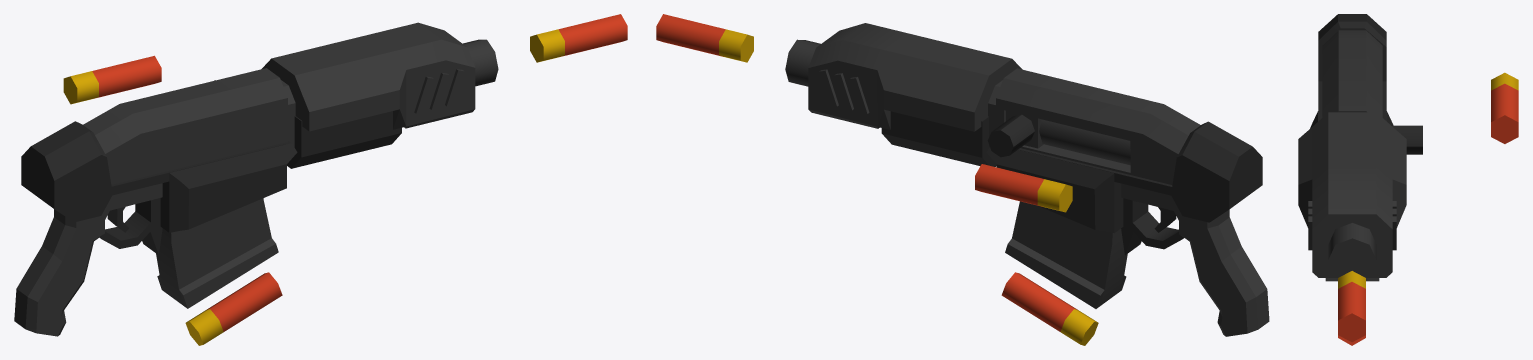
Rendered from Weapon Scifi Shotgun.glb.
3 views of the same model, side by side, from view 1: azimuth 30°, elevation 25°; view 2: azimuth 150°, elevation 25°; view 3: azimuth 270°, elevation 25° (orthographic). The views are drawn at different scales.
Visible parts, largest first — view 1: Line1322, Line1321, Line1323, Line1320, Line1318, Line1324, Rectangle400, gun_bullet3a_036, gun_bullet3a_035, gun_bullet3a_034, Line1332, Cylinder1188; view 2: Line1322, Line1321, Line1323, Line1320, Line1318, Line1324, Rectangle400, Cylinder1188, gun_bullet3a_036, gun_bullet3a_035, gun_bullet3a_034, Line1332 (+2 smaller); view 3: Line1322, Line1321, Cylinder1188, Line1320, gun_bullet3a_034, gun_bullet3a_035, Circle023, Rectangle404.
Boxes of the visible parts, x1=… form: Line1322: x1=261, y1=22, x2=475, y2=131; Line1321: x1=83, y1=68, x2=287, y2=184; Line1323: x1=156, y1=198, x2=278, y2=308; Line1320: x1=21, y1=121, x2=285, y2=222; Line1318: x1=14, y1=183, x2=162, y2=336; Line1324: x1=160, y1=141, x2=297, y2=232; Rectangle400: x1=287, y1=111, x2=401, y2=168; gun_bullet3a_036: x1=185, y1=272, x2=282, y2=345; gun_bullet3a_035: x1=63, y1=55, x2=161, y2=104; gun_bullet3a_034: x1=530, y1=14, x2=627, y2=62; Line1332: x1=99, y1=198, x2=162, y2=254; Cylinder1188: x1=463, y1=39, x2=498, y2=86; Line1322: x1=808, y1=23, x2=1022, y2=131; Line1321: x1=996, y1=68, x2=1200, y2=184; Line1323: x1=1005, y1=201, x2=1127, y2=308; Line1320: x1=1018, y1=121, x2=1262, y2=222; Line1318: x1=1121, y1=183, x2=1269, y2=336; Line1324: x1=986, y1=147, x2=1123, y2=233; Rectangle400: x1=881, y1=111, x2=996, y2=166; Cylinder1188: x1=785, y1=39, x2=1130, y2=165; gun_bullet3a_036: x1=1001, y1=272, x2=1098, y2=345; gun_bullet3a_035: x1=975, y1=164, x2=1072, y2=212; gun_bullet3a_034: x1=656, y1=14, x2=753, y2=62; Line1332: x1=1121, y1=198, x2=1183, y2=255; Line1322: x1=1298, y1=112, x2=1406, y2=277; Line1321: x1=1322, y1=30, x2=1382, y2=117; Cylinder1188: x1=1328, y1=223, x2=1376, y2=277; Line1320: x1=1318, y1=14, x2=1386, y2=120; gun_bullet3a_034: x1=1338, y1=271, x2=1365, y2=342; gun_bullet3a_035: x1=1491, y1=72, x2=1518, y2=143; Circle023: x1=1391, y1=125, x2=1422, y2=154; Rectangle404: x1=1308, y1=216, x2=1396, y2=250.
Size of the model in its own units: 0.7135 by 0.2931 by 0.2192.
